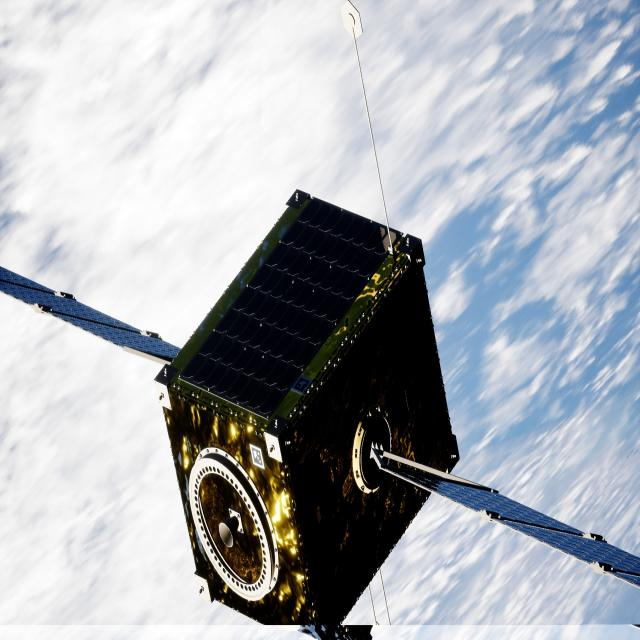medium_debris: (0, 190, 640, 640)
